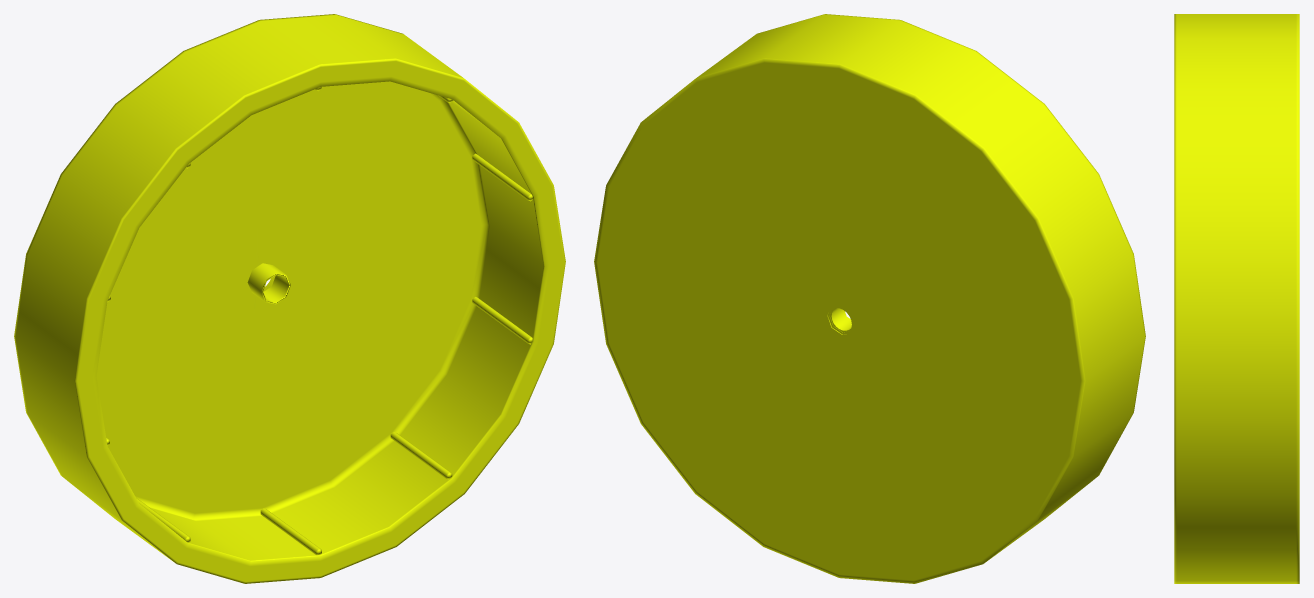
Rendered from Env_Habitat_Object_HamsterWheel_Wheel.fbx.
3 views of the same model, side by side, from view 1: azimuth 30°, elevation 25°; view 2: azimuth 150°, elevation 25°; view 3: azimuth 270°, elevation 25° (orthographic).
Visible parts, largest first — view 1: WHEEL; view 2: WHEEL; view 3: WHEEL.
Part boxes in pixels (box(x1,y1,x2,y2)): WHEEL: box(14, 14, 565, 583); WHEEL: box(594, 14, 1145, 583); WHEEL: box(1174, 14, 1299, 583).
Size of the model in its own units: 16.8 by 16.8 by 3.66.
Materials: 1 (1 with a texture image).
